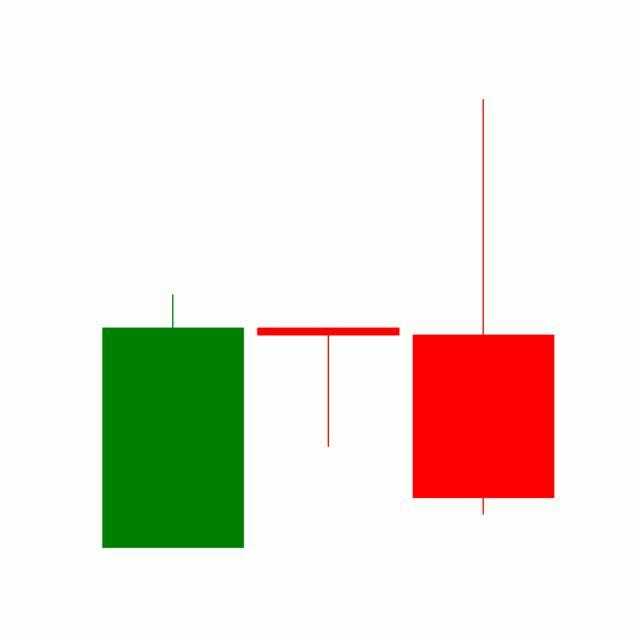Dragonfly Doji: (250, 327, 407, 449)
